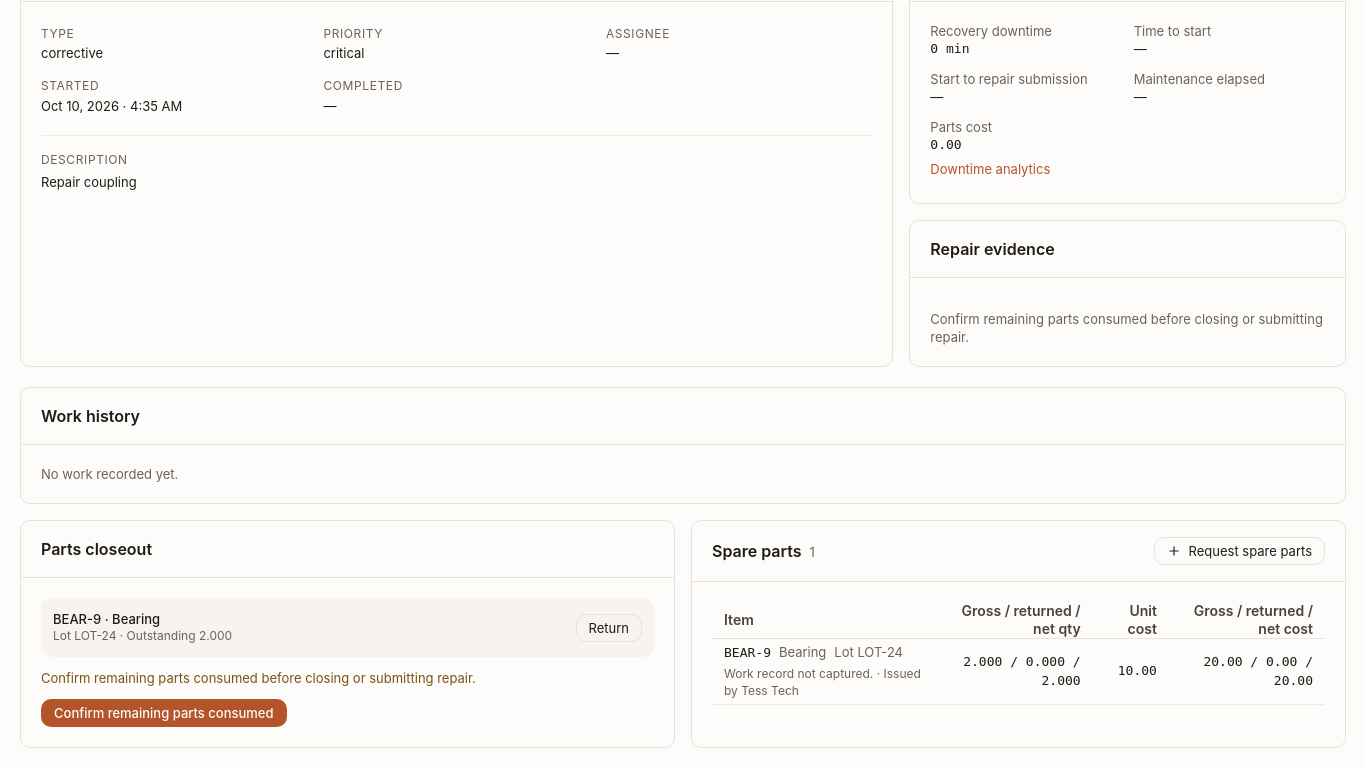
Scenario: desktop shows lot closeout and hides handoff until parts are reconciled
This screenshot has width=1366, height=768.
(page scrolled)
Check: the text "BEAR-9 · Bearing" is shown, box x1=53 y1=611 x2=160 y2=627
Check: the text "Lot LOT-24 · Outstanding 2.000" is shown, box x1=53 y1=628 x2=232 y2=645
Click the button "Confirm remaining parts consumed": (164,713) x1=41 y1=699 x2=286 y2=727
(page scrolled)
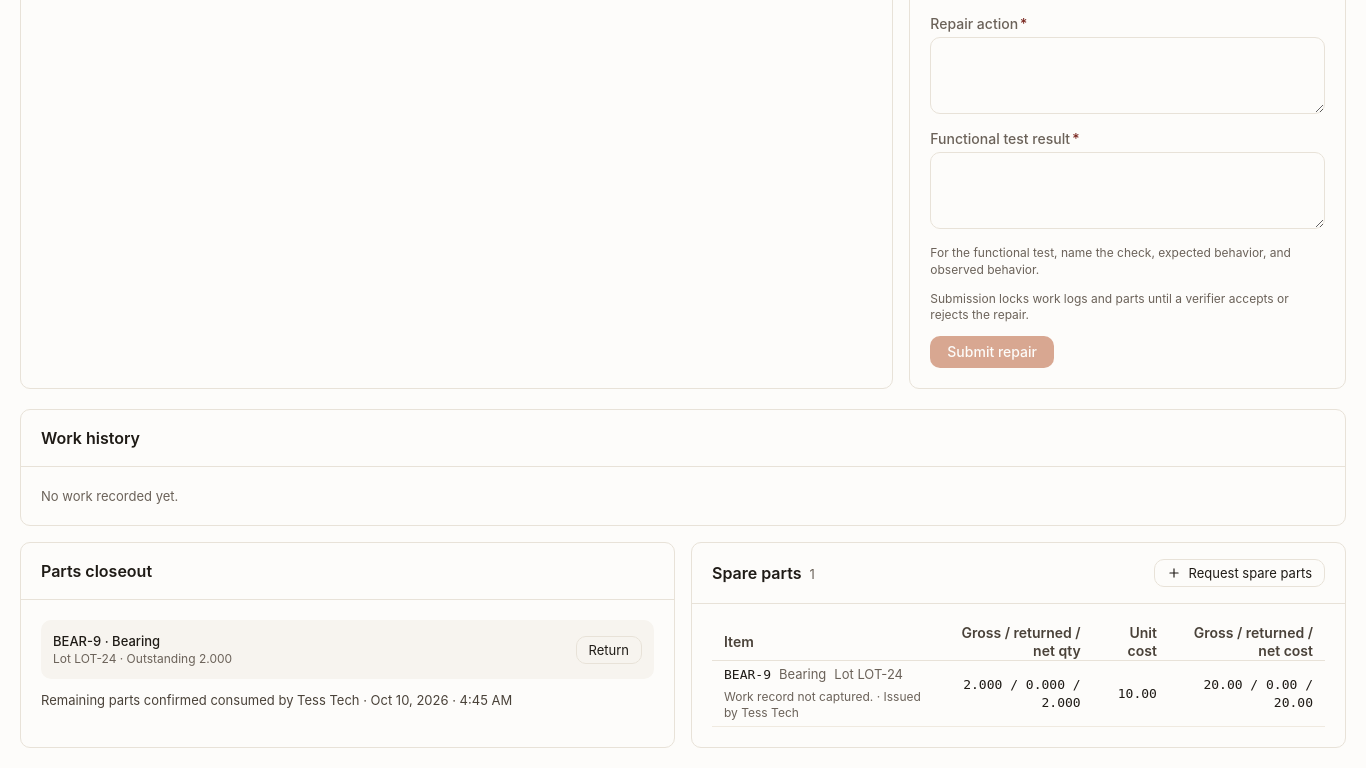
Check: the text "Remaining parts confirmed consumed by Tess Tech" is shown, box x1=41 y1=692 x2=512 y2=708
